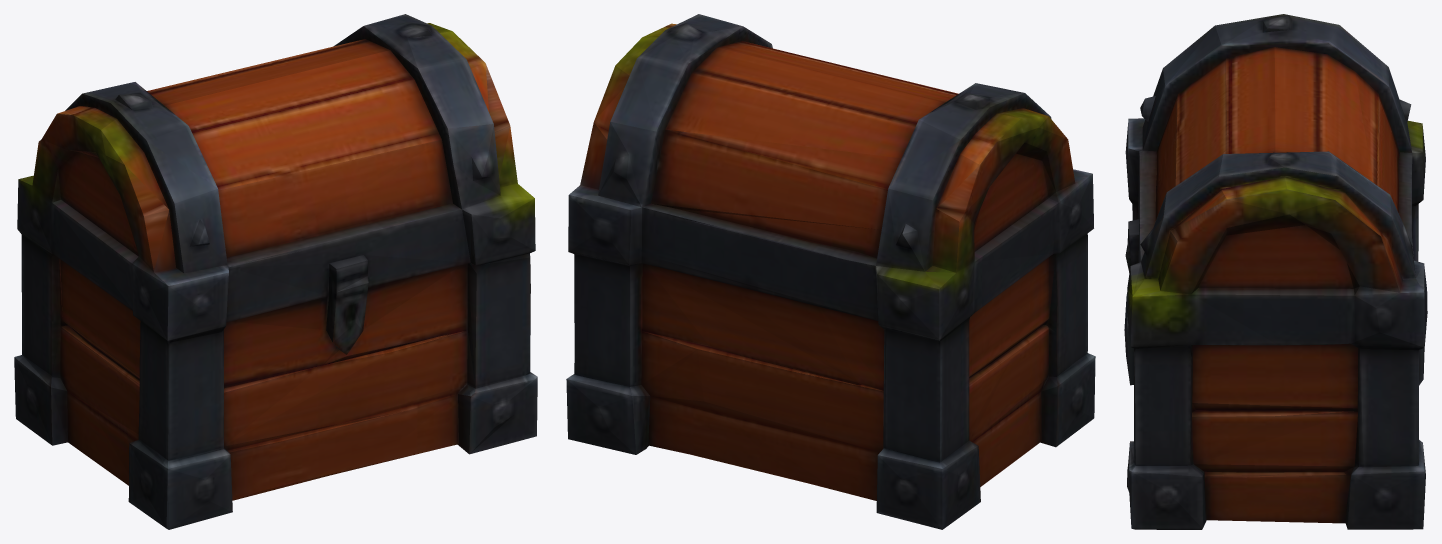
File: d_coffre_commun.glb
3 views of the same model, side by side, from view 1: azimuth 30°, elevation 25°; view 2: azimuth 150°, elevation 25°; view 3: azimuth 270°, elevation 25° (orthographic). The views are drawn at different scales.
Parts seen in each view (by area): view 1: coffre, couvercle; view 2: coffre, couvercle; view 3: couvercle, coffre.
Part boxes in pixels (box(x1,y1,x2,y2)): coffre: box(14, 199, 537, 529); couvercle: box(18, 14, 535, 309); coffre: box(566, 198, 1095, 529); couvercle: box(568, 14, 1093, 308); couvercle: box(1125, 14, 1427, 317); coffre: box(1124, 156, 1427, 529).
Size of the model in its own units: 0.9995 by 0.927 by 0.7149.
2 materials, 1 textured.
